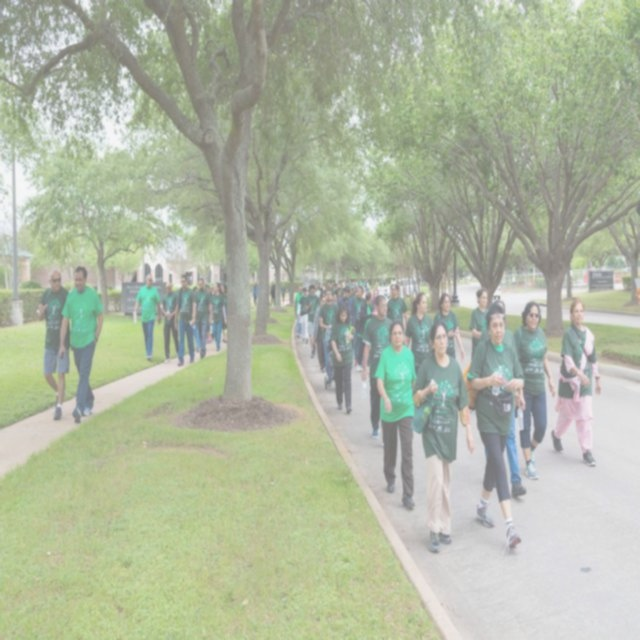pessoa: (409, 318, 477, 556), (465, 302, 526, 548), (478, 298, 528, 500), (550, 296, 601, 470), (512, 299, 557, 482), (374, 321, 418, 508), (58, 264, 105, 426), (36, 270, 72, 422), (361, 294, 394, 448), (330, 302, 356, 414), (403, 290, 435, 378), (132, 272, 162, 362), (316, 287, 339, 388), (433, 291, 465, 362), (173, 272, 196, 368), (192, 278, 214, 360), (159, 281, 180, 366), (356, 290, 376, 373), (469, 286, 490, 361), (312, 293, 328, 375), (210, 281, 228, 352), (304, 284, 320, 360), (386, 282, 408, 336), (352, 284, 365, 368), (314, 283, 358, 303), (296, 287, 310, 345), (336, 284, 354, 322), (294, 286, 304, 338), (220, 283, 228, 345), (206, 315, 213, 344), (252, 281, 259, 308), (270, 280, 276, 306), (280, 281, 286, 307), (372, 288, 379, 308), (204, 283, 214, 296), (362, 282, 369, 299), (192, 286, 198, 294)
